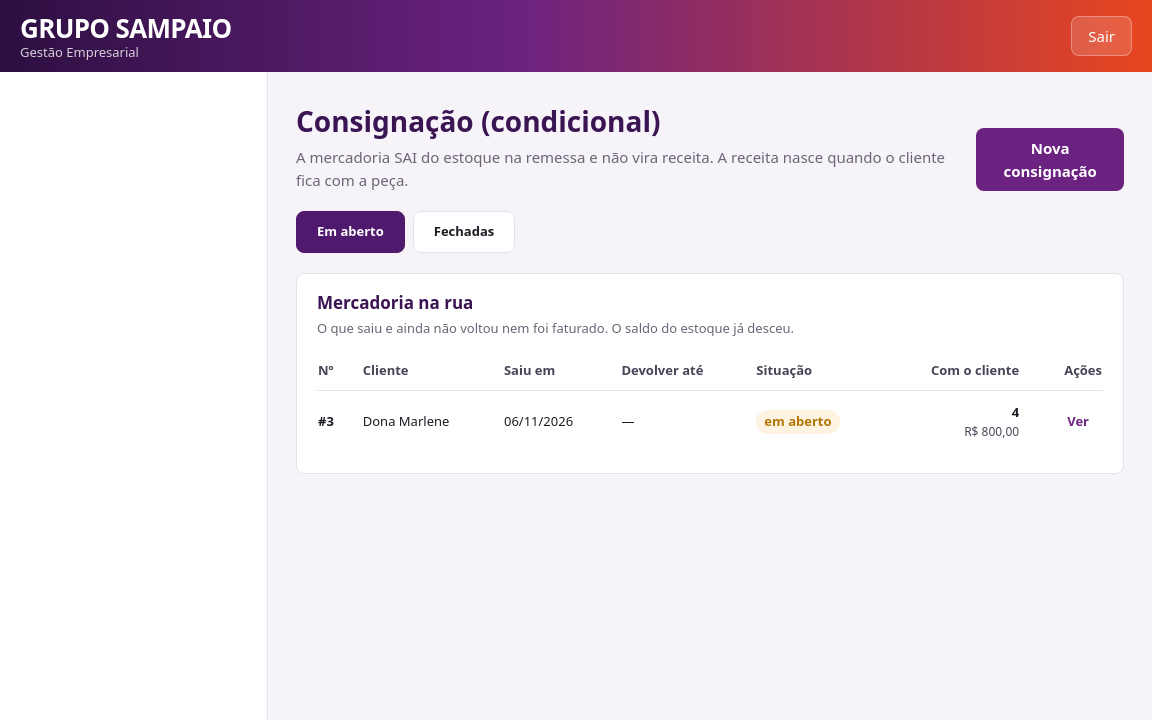
Test: fechar só quando não sobrou nada › com mercadoria na rua, o botão de fechar não aparece
Click the button "Ver": (1078,422) x1=1054 y1=405 x2=1102 y2=438
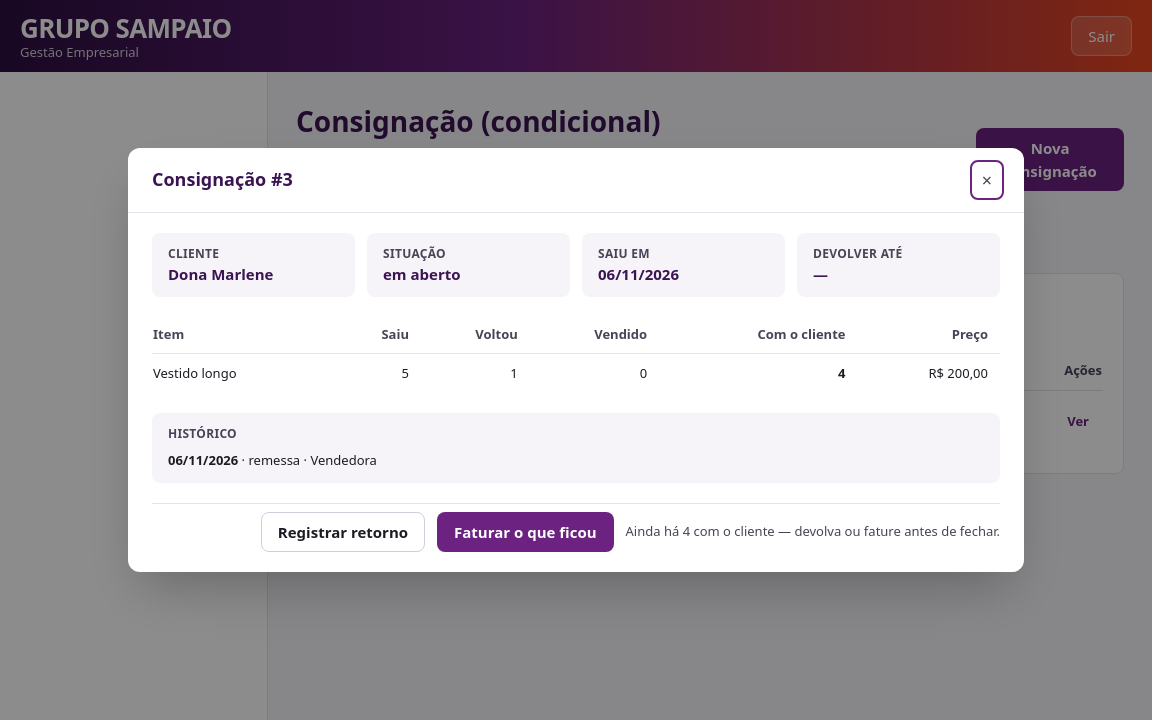
Expected: the heading "Consignação #3" is shown, x1=152 y1=166 x2=293 y2=193
Expected: the text "devolva ou fature antes de fechar" is shown, x1=690 y1=522 x2=1000 y2=540
